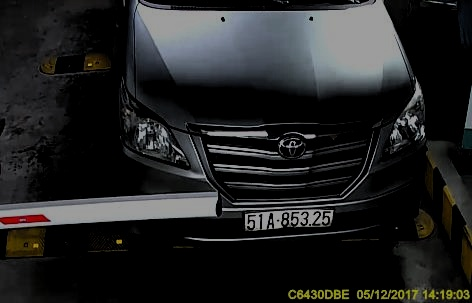plate: (241, 205, 336, 232)
